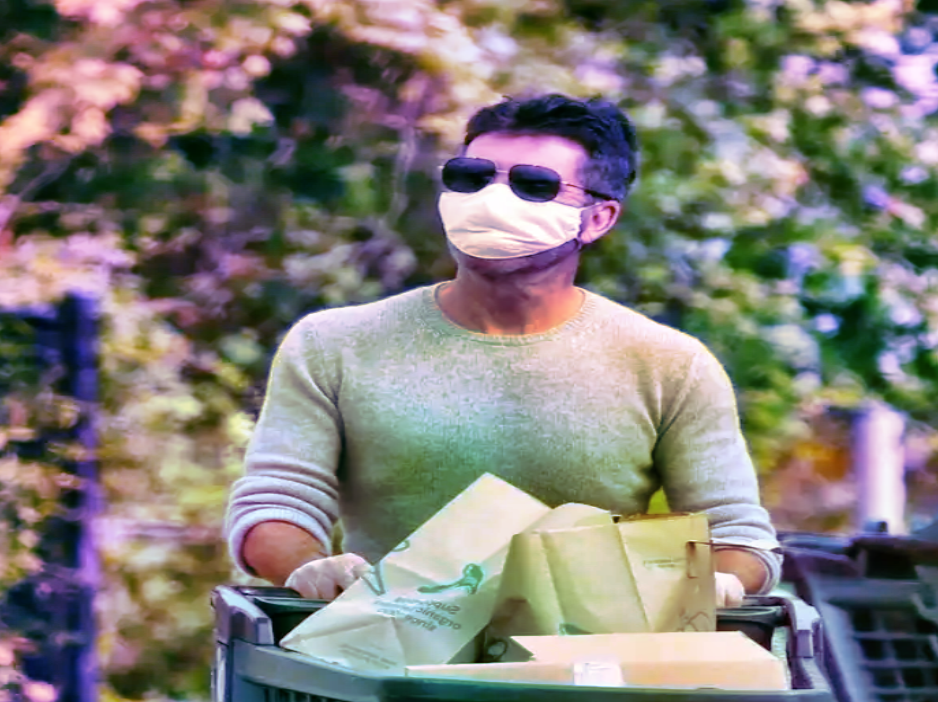mask_weared_incorrect: (429, 98, 639, 280)
